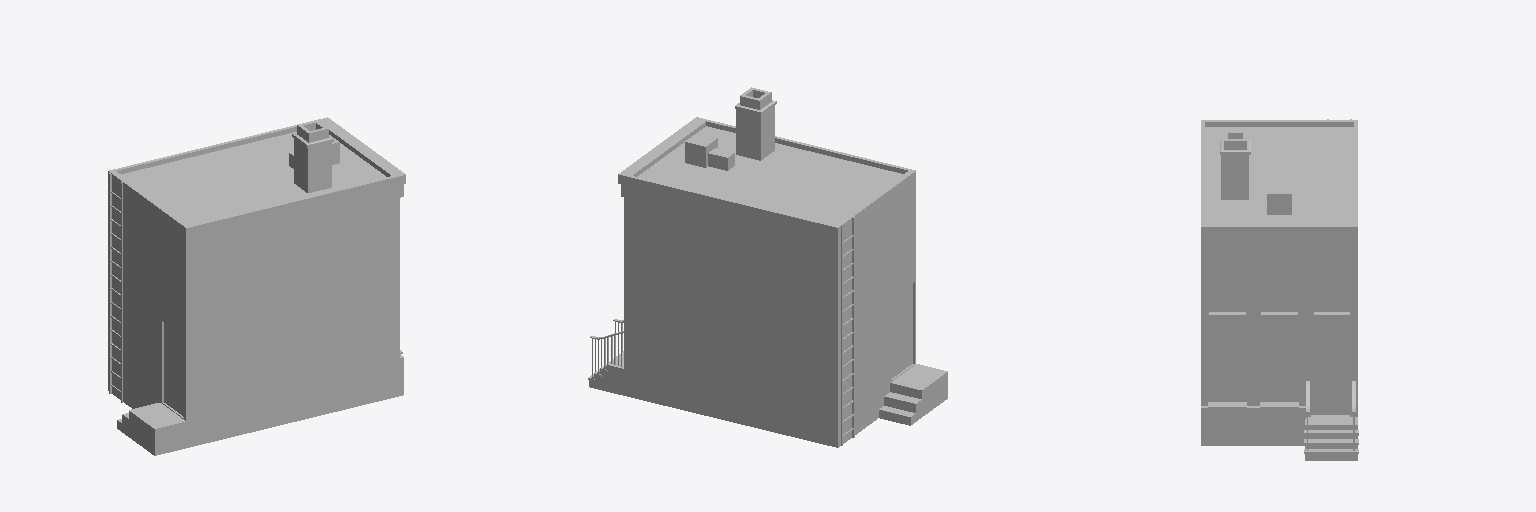
File: Townhouse.obj
3 views of the same model, side by side, from view 1: azimuth 30°, elevation 25°; view 2: azimuth 150°, elevation 25°; view 3: azimuth 270°, elevation 25° (orthographic).
Visible parts, largest first — view 1: Building_Cube; view 2: Building_Cube; view 3: Building_Cube.
Boxes of the visible parts, x1=… form: Building_Cube: x1=108, y1=117, x2=405, y2=455; Building_Cube: x1=588, y1=87, x2=947, y2=447; Building_Cube: x1=1201, y1=119, x2=1358, y2=460.
Size of the model in its own units: 7.39 by 6.87 by 3.59.